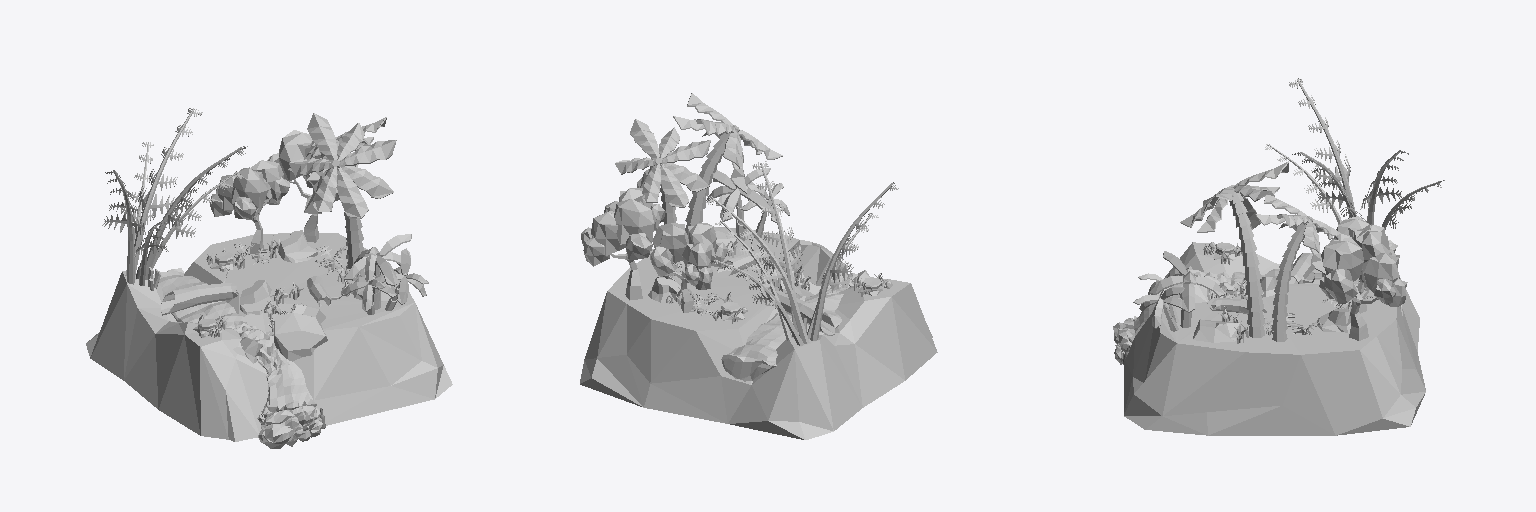
The model's file is monde2.obj.
3 renders of one model, left to right at view 1: azimuth 30°, elevation 25°; view 2: azimuth 150°, elevation 25°; view 3: azimuth 270°, elevation 25°, orthographic.
Parts seen in each view (by area): view 1: Landscape.002_Landscape.001, Landscape.003_Landscape.001; view 2: Landscape.002_Landscape.001, Landscape.003_Landscape.001; view 3: Landscape.002_Landscape.001, Landscape.003_Landscape.001.
Part boxes in pixels (x1,y1,x2,y2): Landscape.002_Landscape.001: (86, 108, 452, 441); Landscape.003_Landscape.001: (153, 268, 322, 448); Landscape.002_Landscape.001: (580, 93, 937, 439); Landscape.003_Landscape.001: (721, 273, 857, 381); Landscape.002_Landscape.001: (1124, 78, 1444, 435); Landscape.003_Landscape.001: (1113, 269, 1400, 364).
Size of the model in its own units: 40.57 by 34.28 by 41.59.